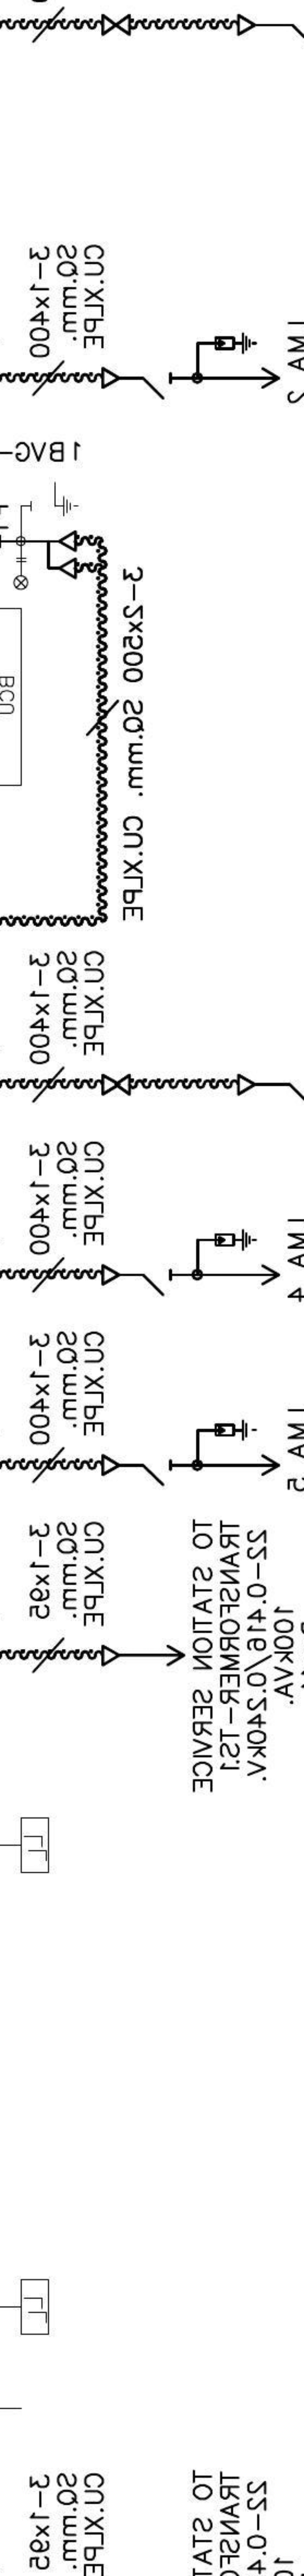22_ds_la_out: (141, 332, 281, 401), (141, 1418, 281, 1487), (141, 1229, 281, 1296)
22_gs: (28, 481, 79, 517)
22_ll: (13, 557, 30, 591)
LL: (20, 2277, 51, 2336), (20, 1817, 51, 1876)
terminator_double: (46, 529, 77, 580)
terminator_single: (235, 1073, 256, 1097), (235, 13, 256, 38), (100, 1643, 120, 1667), (100, 1452, 120, 1477), (100, 1262, 120, 1286), (100, 366, 120, 391)
terminator_splicing_kits: (100, 13, 131, 36), (100, 1073, 131, 1096)
